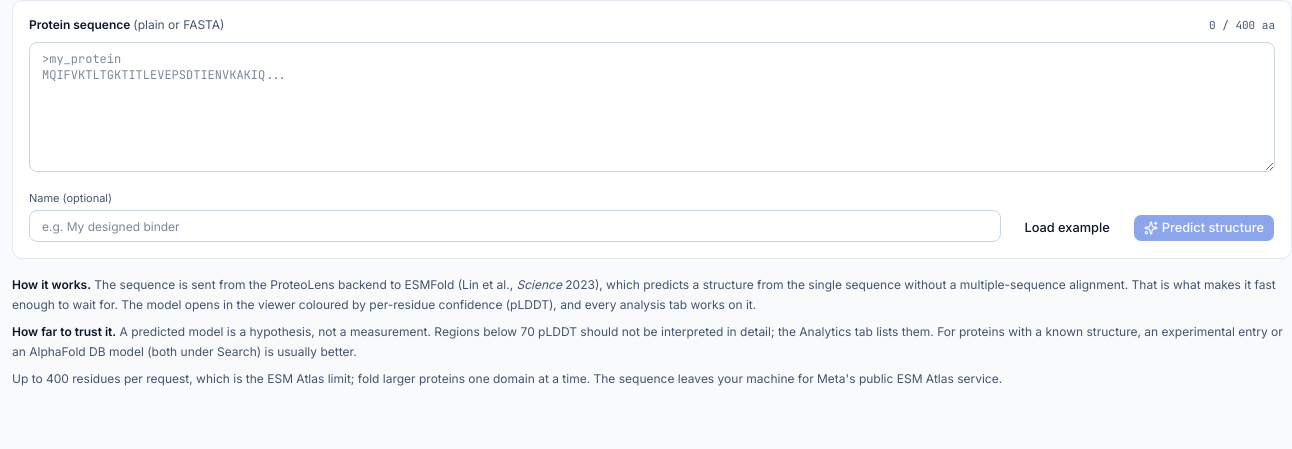
Test: PredictView › shows the backend's reason when folding is refused
Type "ATGCATGCATGC" into the text box labelled "Protein sequence (plain or FASTA)" at (652, 106), box [29,42,1275,172]
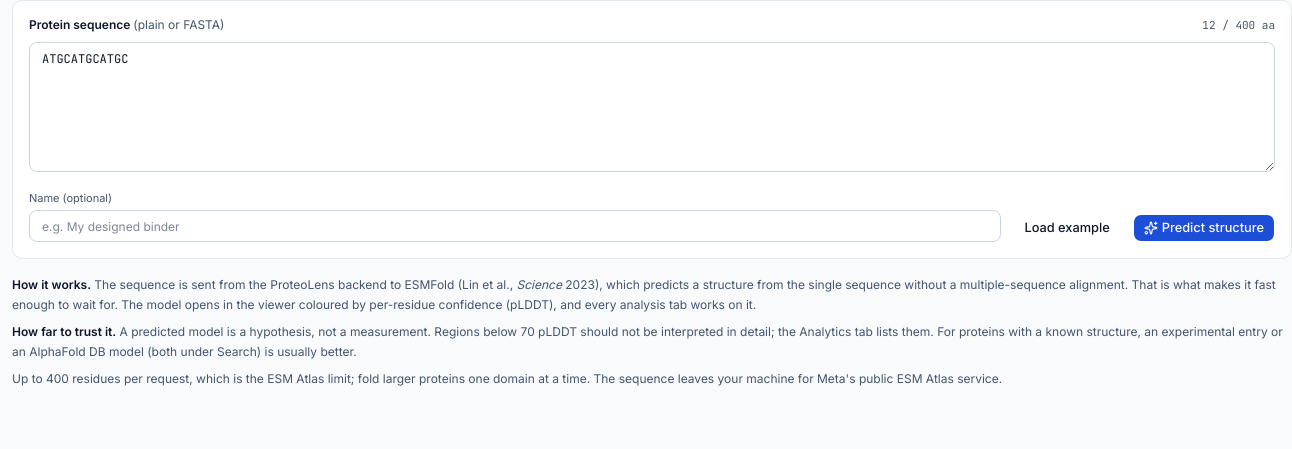
Click the button "Predict structure" at (1204, 228), box [1133,214,1275,242]
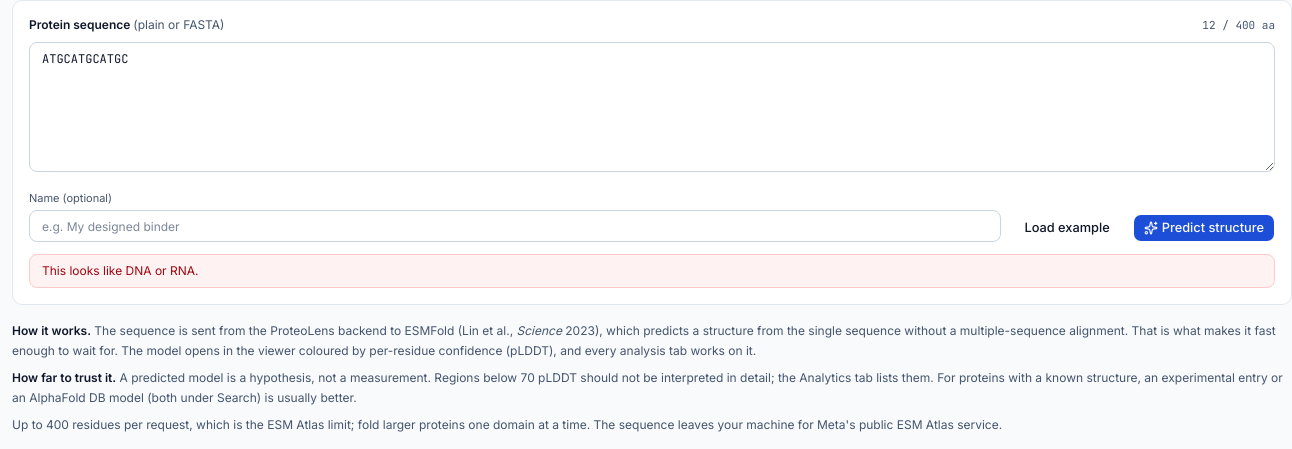
Expected: the message shows "looks like DNA", [42,263,198,278]
